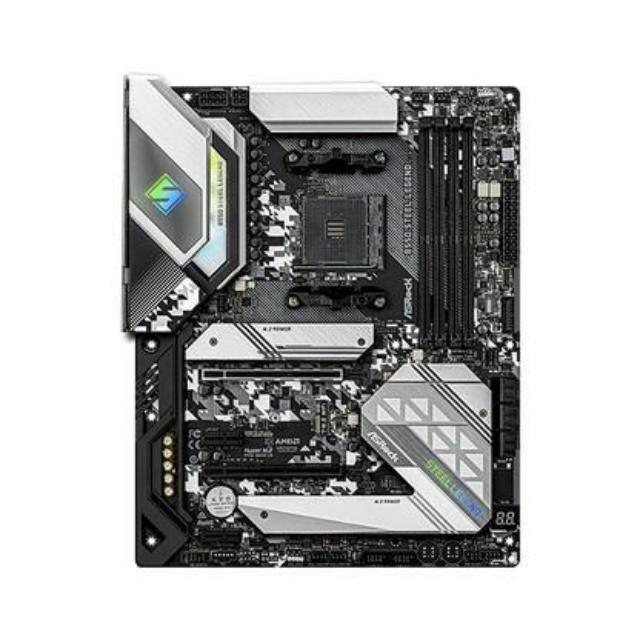Mainboard: (120, 70, 525, 576)
